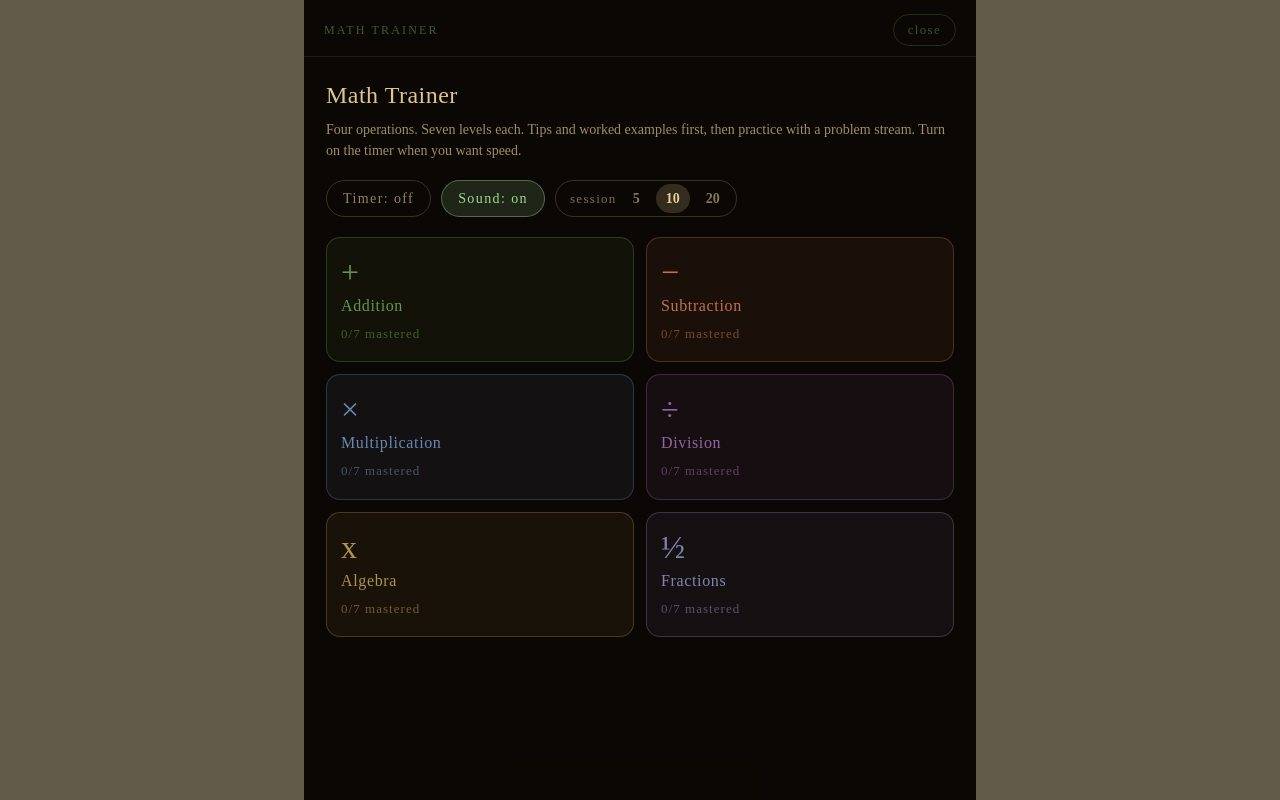
Test: MathTrainer › walks home → operation → level → tips → practice and accepts a correct answer
Expected: the heading "Math Trainer" is shown, [326,82,458,108]
Click the button "+ Addition 0/7 mastered". click: {"x": 372, "y": 305}
box: [326,237,634,362]
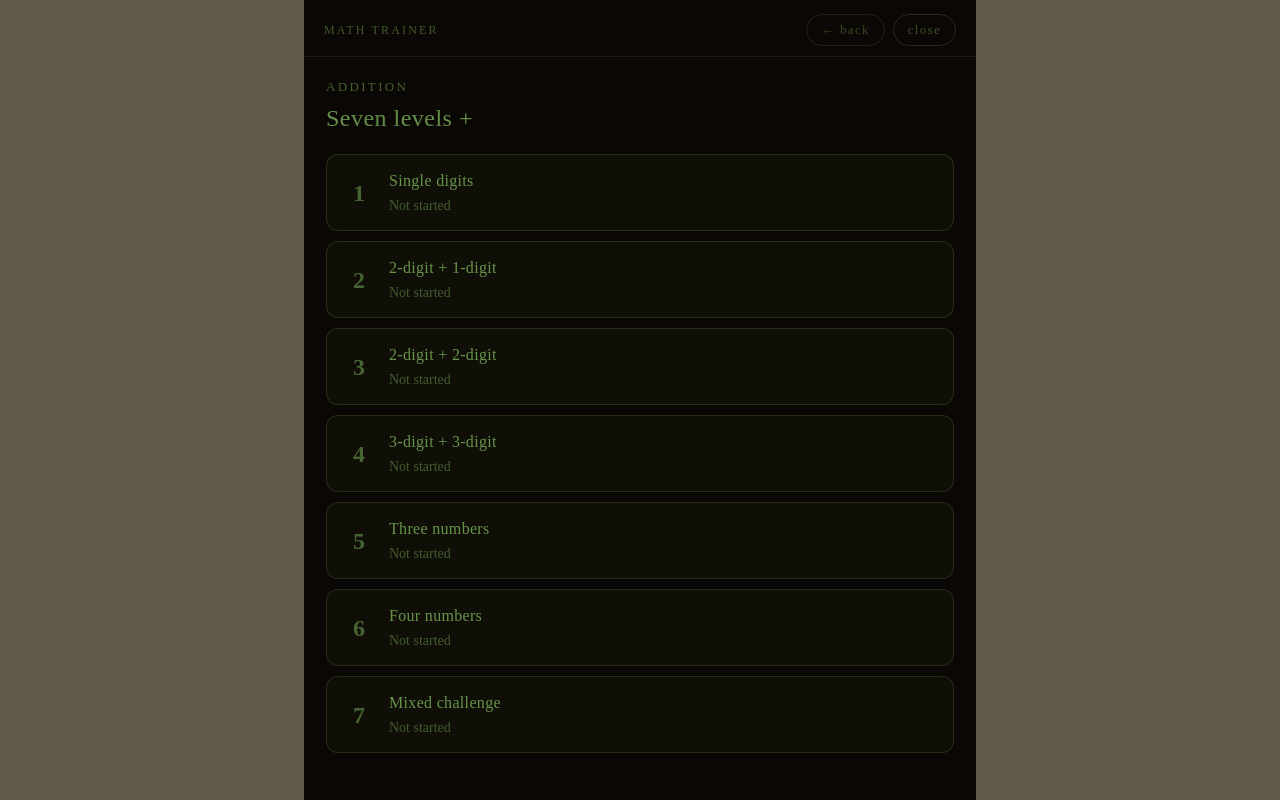
Expected: the heading "Seven levels +" is shown, [326,105,473,131]
Click the button with aria-label "Open level 1: Single digits". click: {"x": 431, "y": 180}
box: [326,154,954,231]
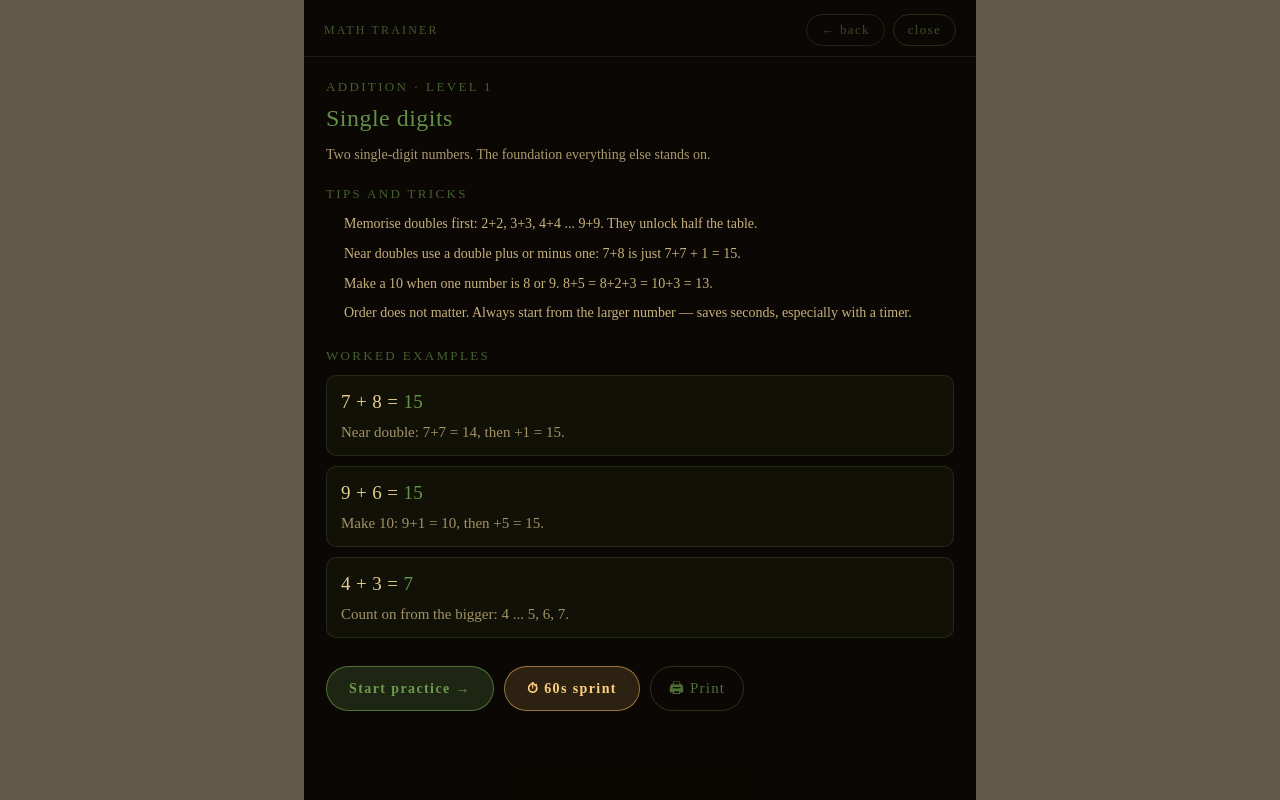
Expected: the heading "Tips and tricks" is shown, [326,186,468,201]
Expected: the list item "Memorise doubles" is shown, [344,216,758,231]
Expected: the heading "Worked examples" is shown, [326,348,490,363]
Click the button "Start practice →". click: {"x": 410, "y": 689}
box: [326,666,494,711]
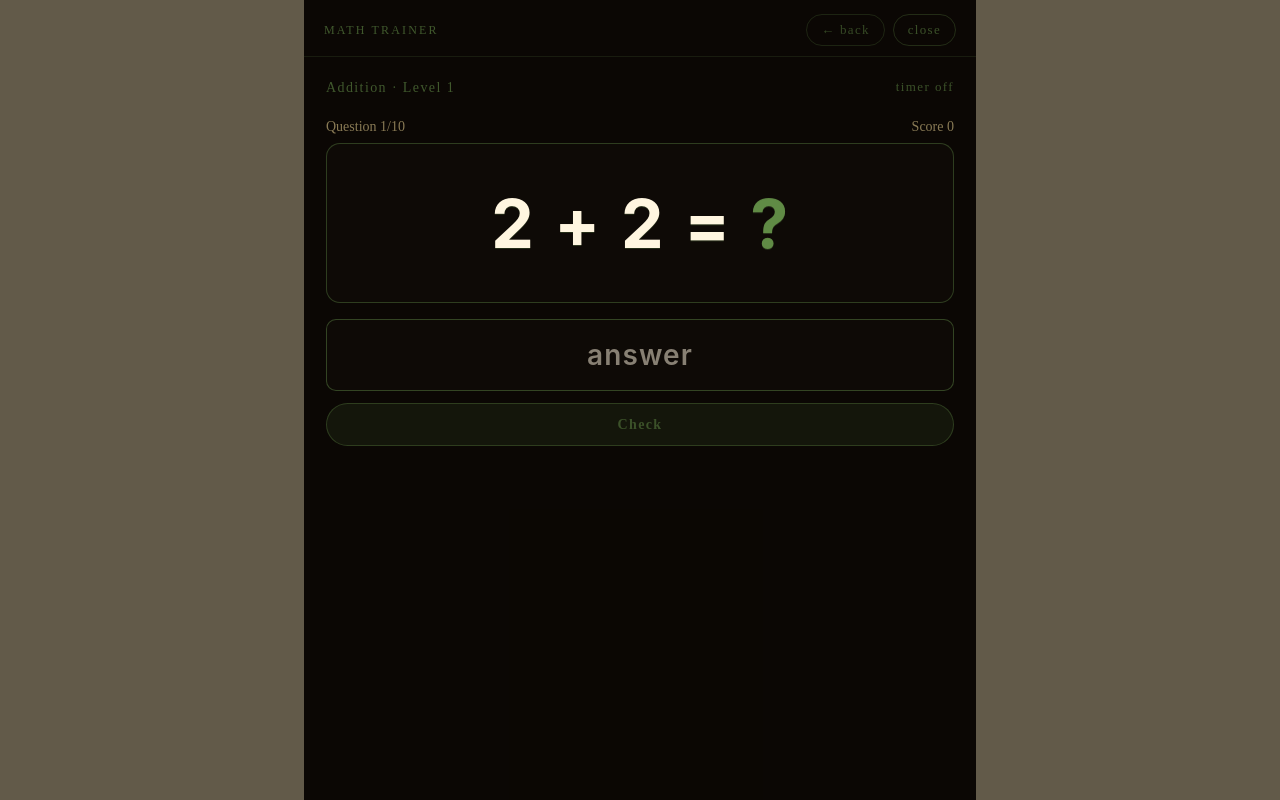
Expected: the text "Question 1/10" is shown, [326,116,405,136]
Type "4" into the field labelled "answer". click: {"x": 640, "y": 355}
box: [326,319,954,391]
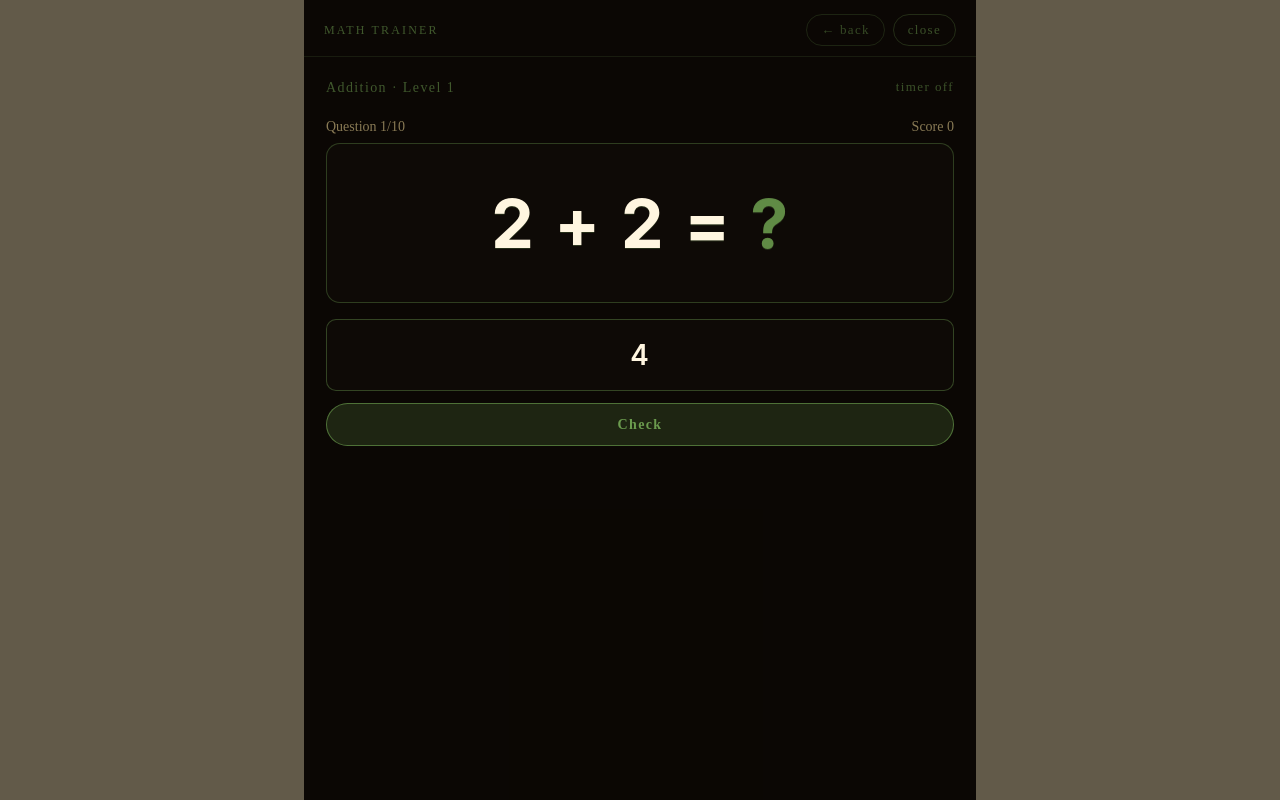
Click the button "Check". click: {"x": 640, "y": 425}
box: [326,403,954,446]
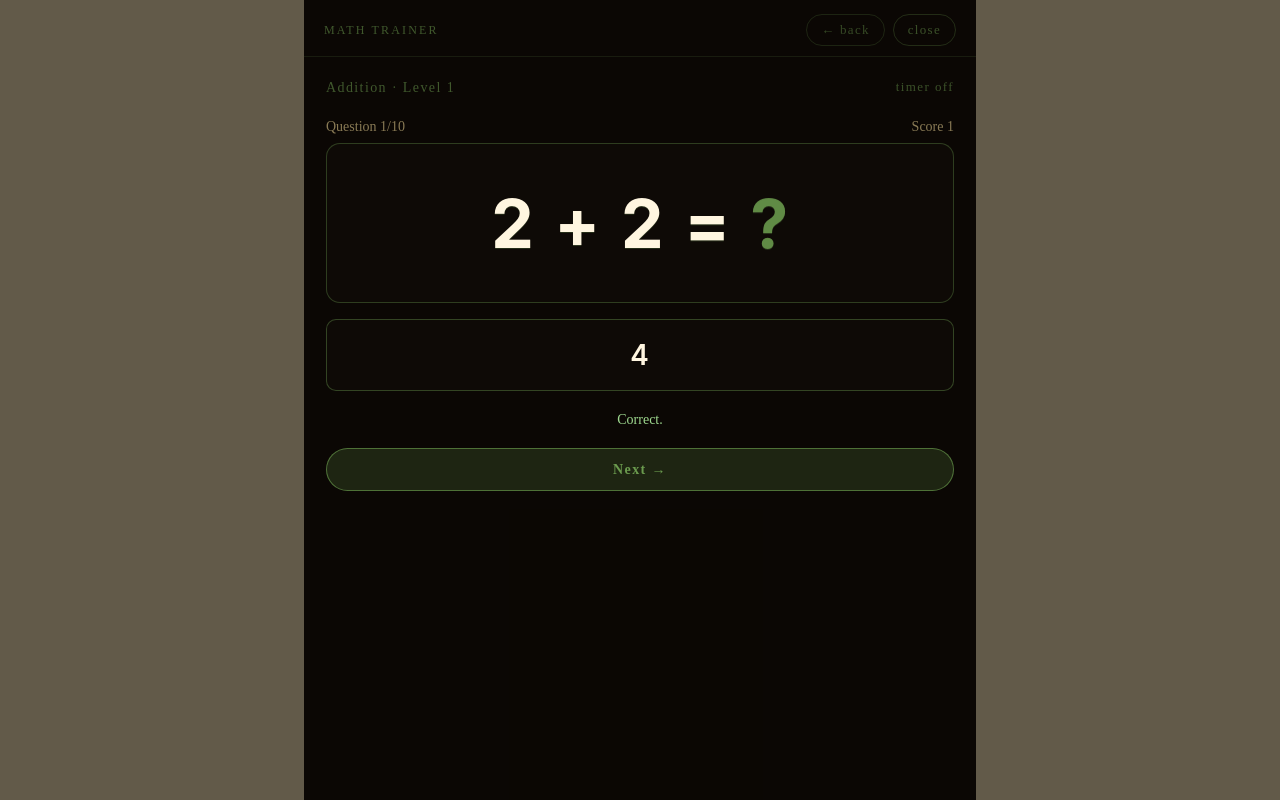
Expected: the text "Correct." is shown, [617,412,663,427]
